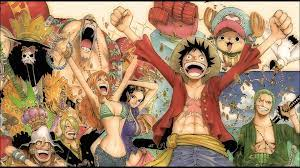chopper: (204, 6, 267, 55)
luffy: (168, 37, 223, 85)
